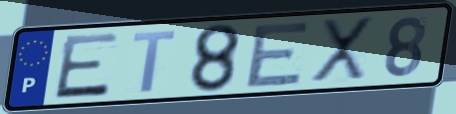8: (188, 22, 243, 94), (381, 14, 429, 79)
E: (242, 19, 314, 90), (51, 31, 122, 102)
T: (130, 28, 180, 95)
X: (308, 15, 376, 84)
